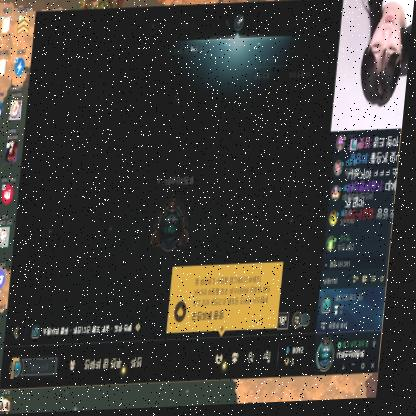streamer: (346, 0, 416, 114)
